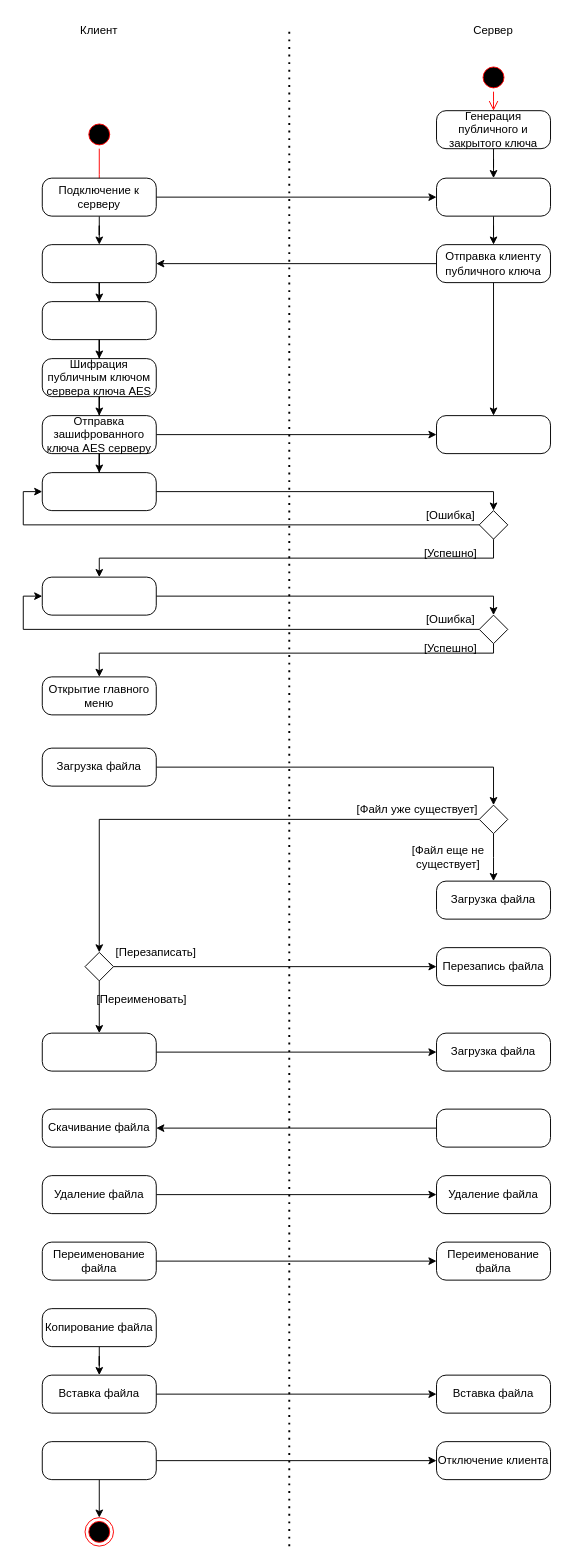
Image size: 567x1564. Some labels were removed from this diagram. Here are the shapes that lost their labels. From the top down, the centre of each, then its label:
At pixel 493 196: "Ожидание подключения клиентов".
At pixel 98 263: "Получение публичного ключа".
At pixel 98 320: "Генерация AES ключа".
At pixel 493 434: "Получение ключа AES".
At pixel 98 491: "Регистрация".
At pixel 98 595: "Авторизация".
At pixel 98 1051: "Ввод нового имени".
At pixel 493 1127: "Передача файла".
At pixel 98 1460: "Выход из программы".
